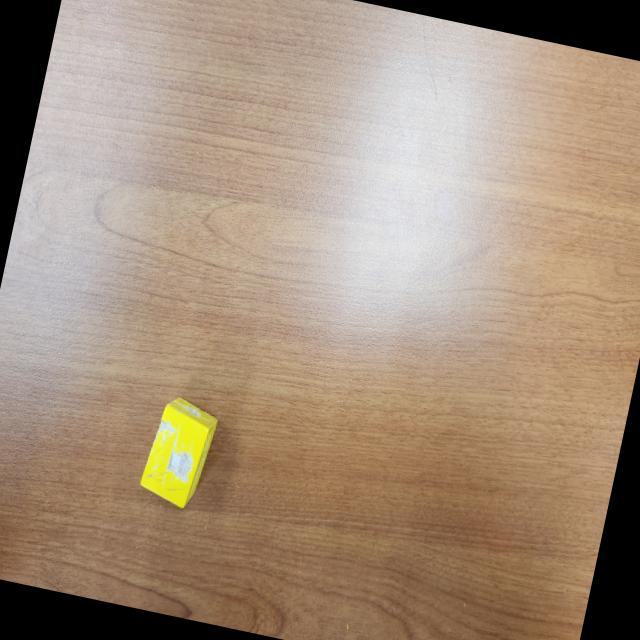broken: (136, 392, 221, 512)
